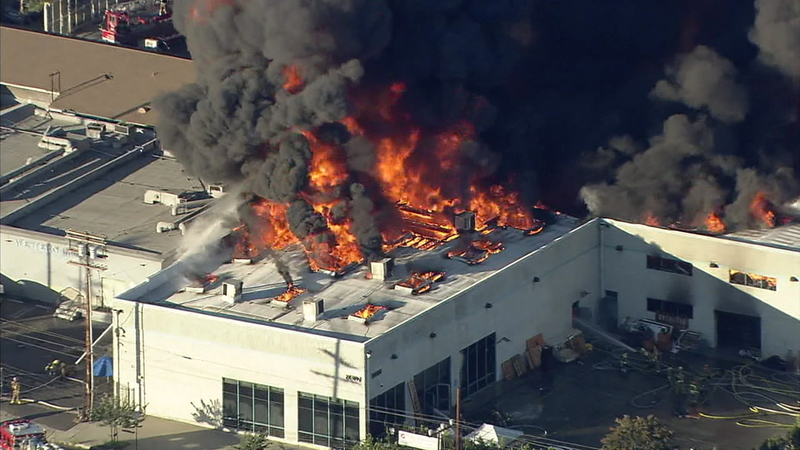fire: (237, 125, 561, 266)
